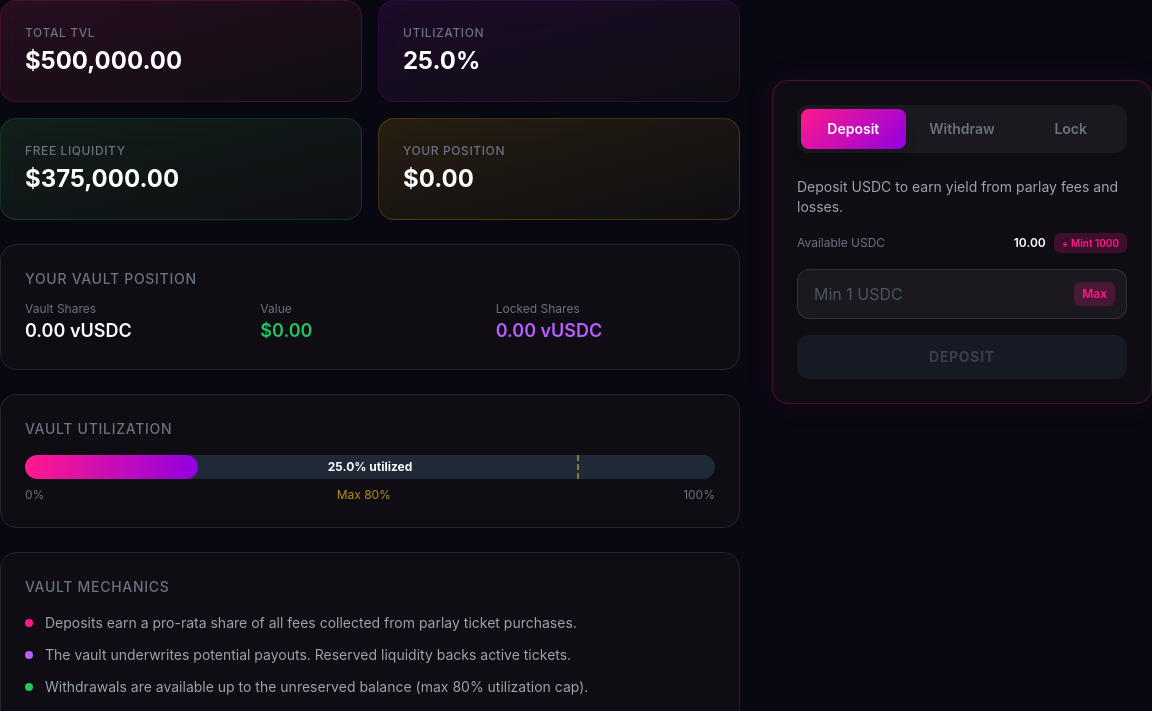
it: VaultDashboard › deposit minimum guard › deposit input strips non-numeric characters
Type "1e2" into the field with placeholder "Min 1 USDC". click: (962, 294)
box: [797,269,1127,319]
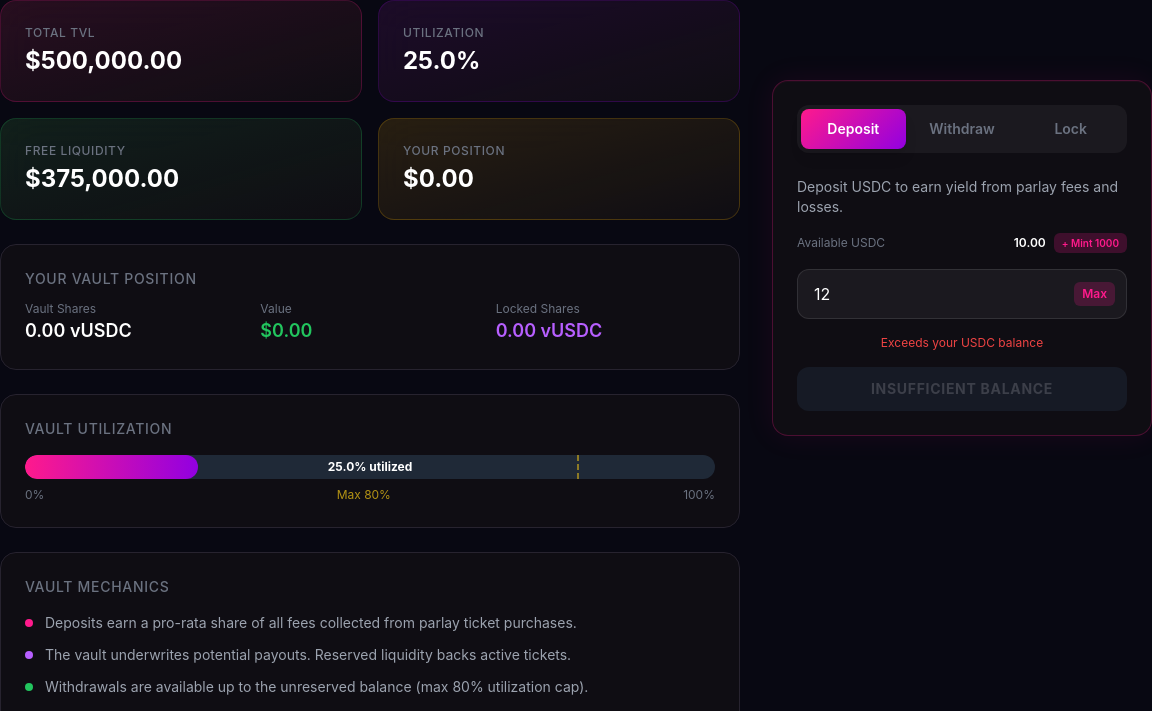
Check: the field with placeholder "Min 1 USDC" holds "12", box [797,269,1127,319]
